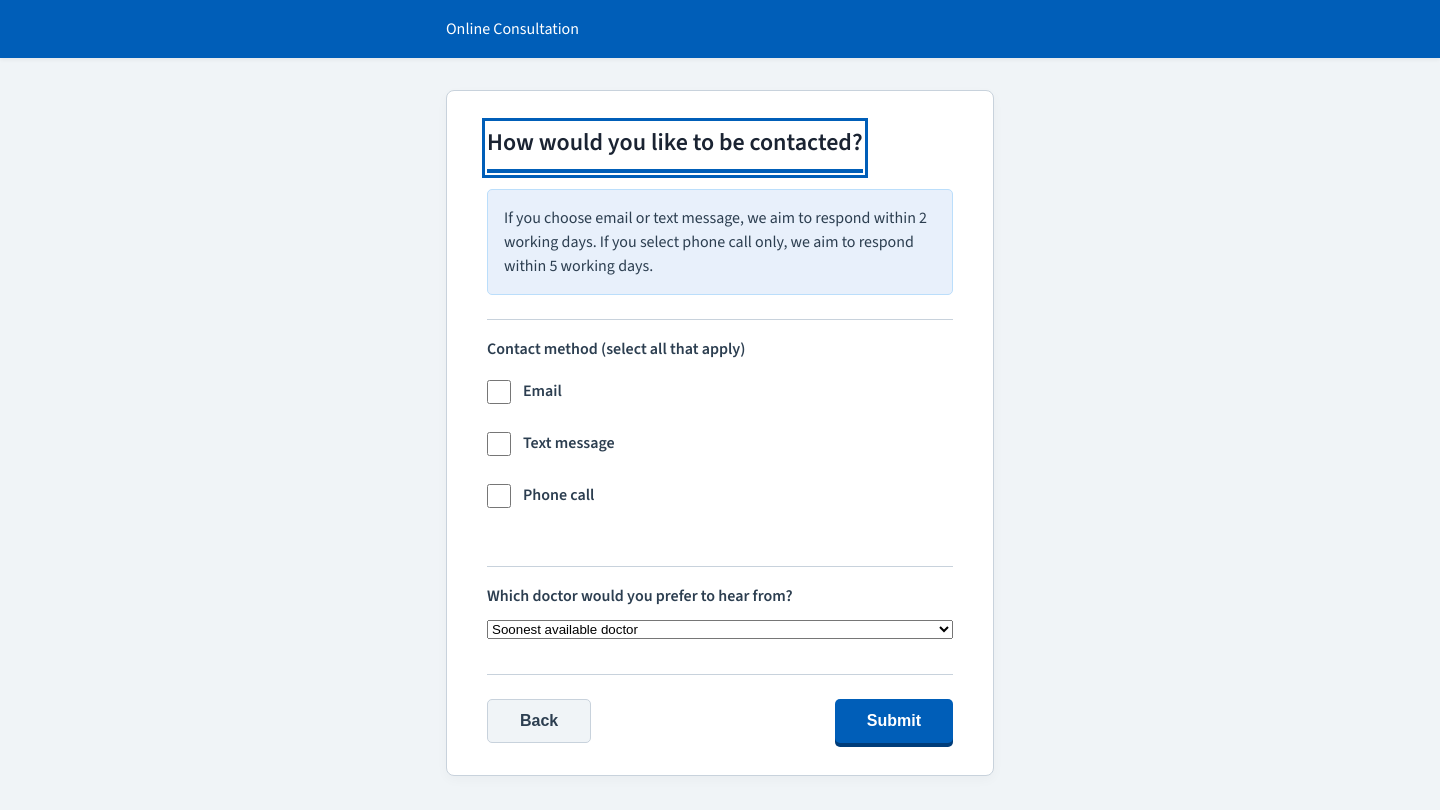
Scenario: ContactScreen › phone field appears when text message is selected
Click the checkbox labelled "Text message" at [499, 444], box [487,432,511,456]
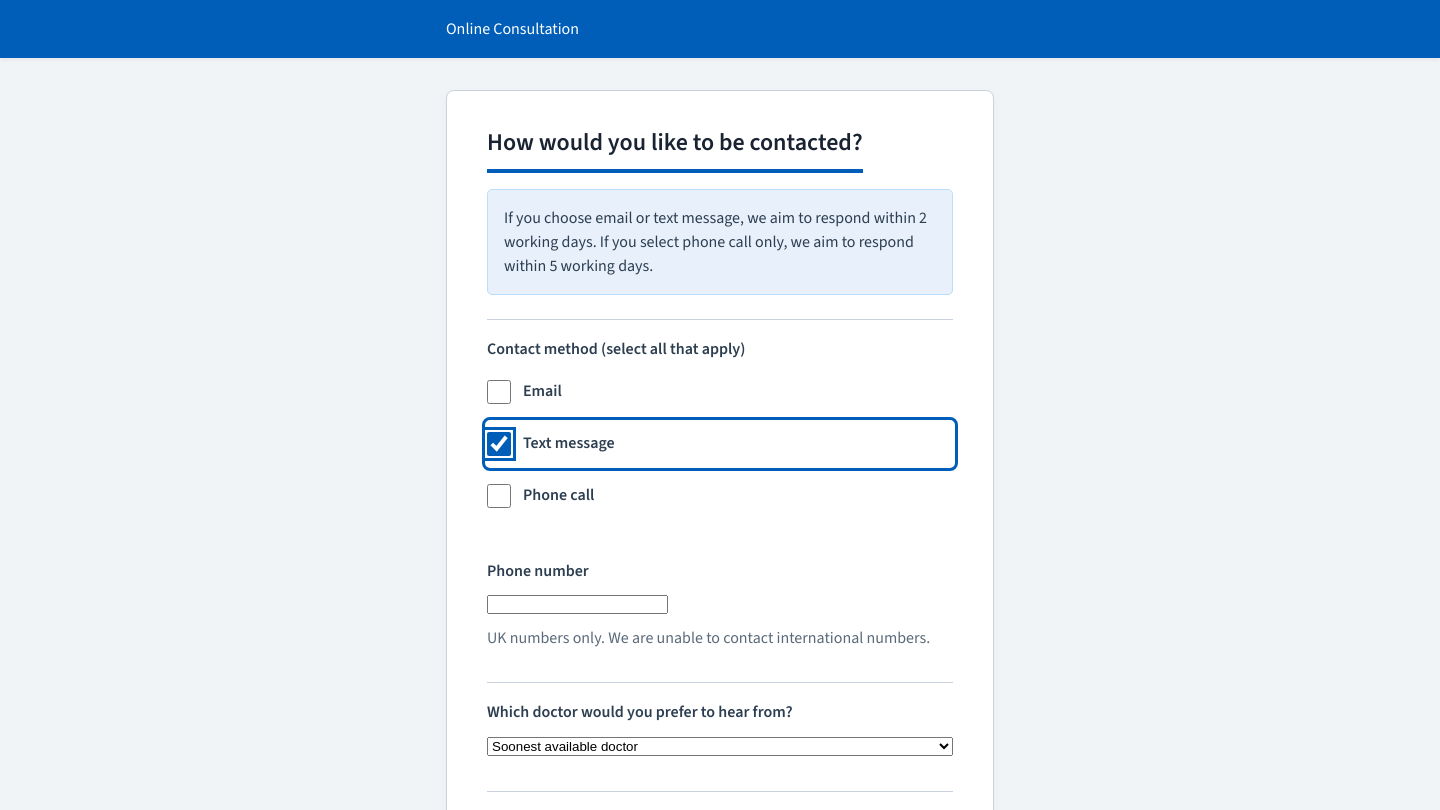
Expected: the field with id "contact-phone" is shown, [487,595,668,614]
